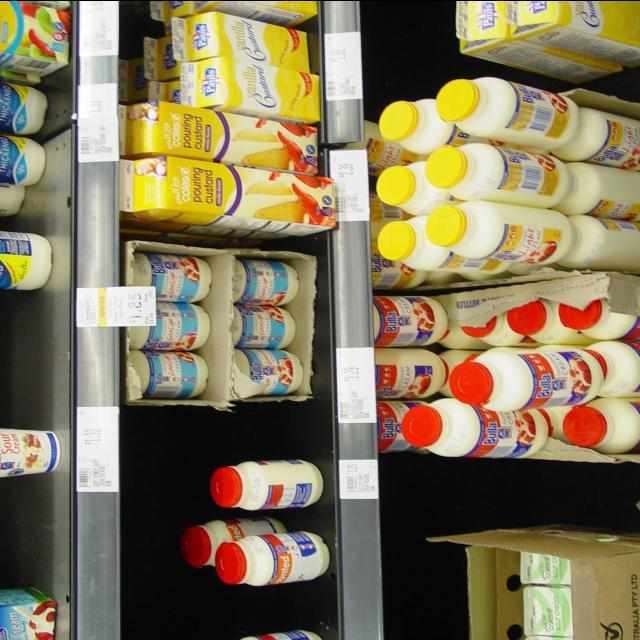empty_space: (429, 462, 634, 530), (389, 544, 465, 636), (370, 0, 452, 83), (189, 584, 324, 633), (8, 298, 64, 412), (209, 410, 323, 458), (6, 479, 61, 577)
